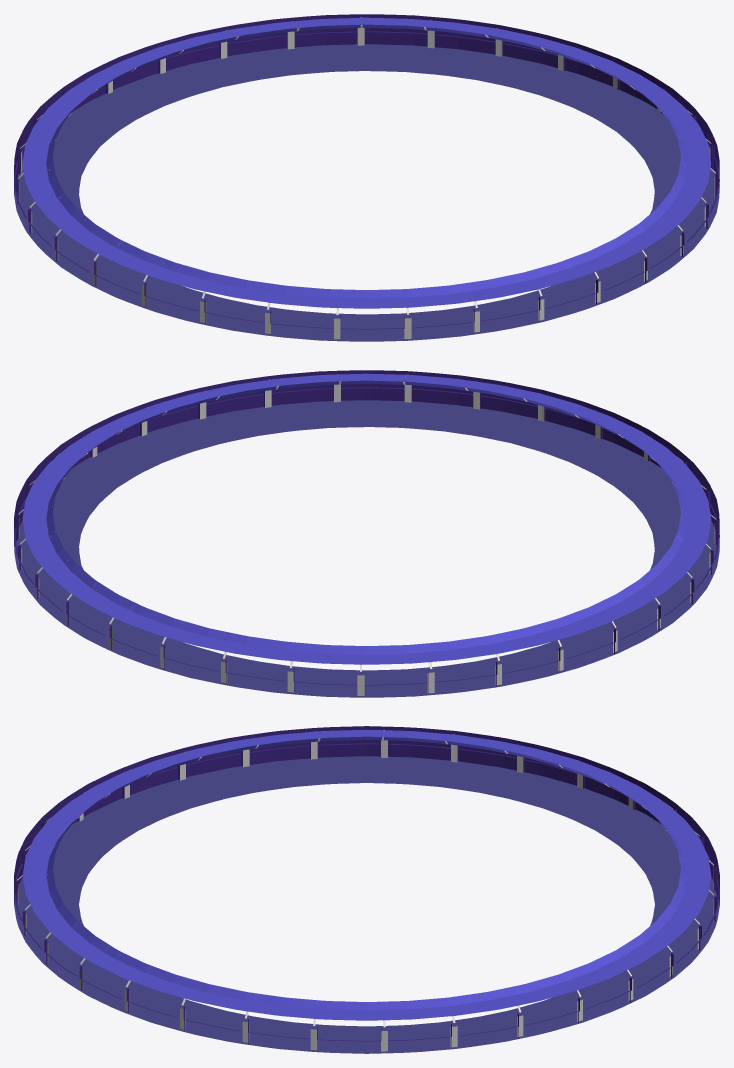
Rendered from Level.fbx.
3 views of the same model, one above another, from view 1: azimuth 30°, elevation 25°; view 2: azimuth 150°, elevation 25°; view 3: azimuth 270°, elevation 25° (orthographic).
Parts seen in each view (by area): view 1: Road; view 2: Road; view 3: Road.
Boxes of the visible parts, x1=… form: Road: x1=14, y1=14, x2=719, y2=341; Road: x1=14, y1=370, x2=719, y2=697; Road: x1=14, y1=726, x2=719, y2=1053.
Size of the model in its own units: 21747 by 1200 by 21747.
